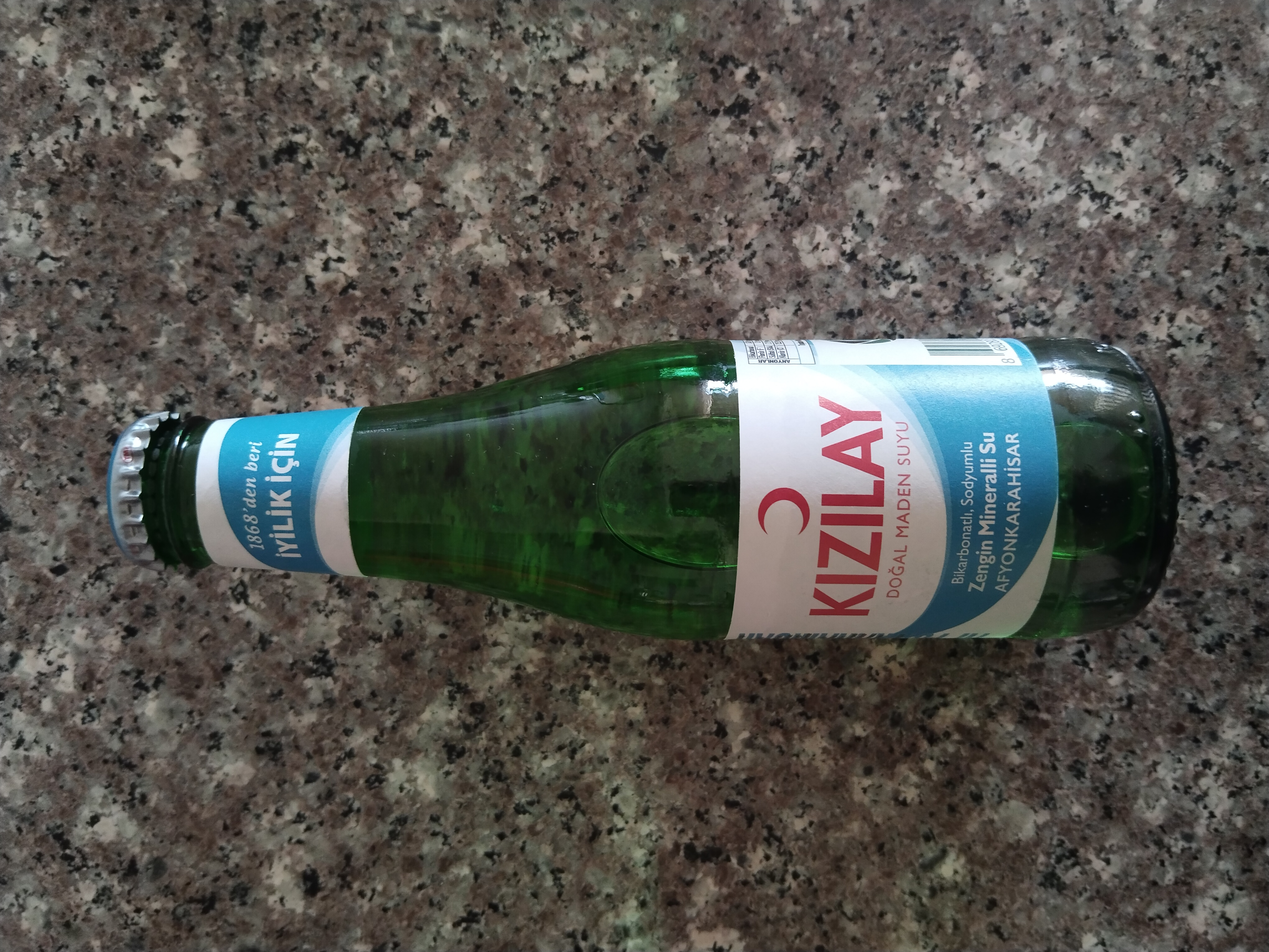kizilay_maden_suyu: (119, 338, 1174, 640)
